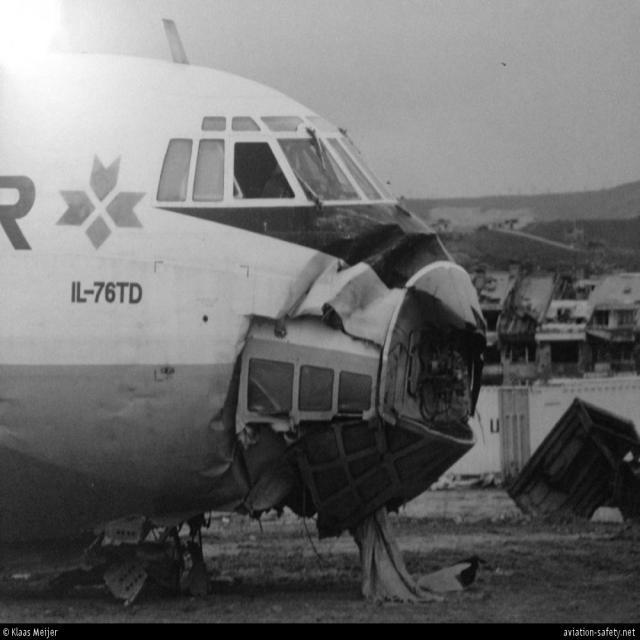dent: (193, 410, 237, 483)
